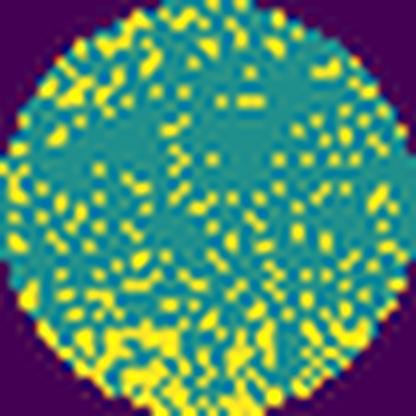Edge-Loc: (111, 356, 166, 416), (212, 376, 260, 416), (163, 372, 206, 416)
